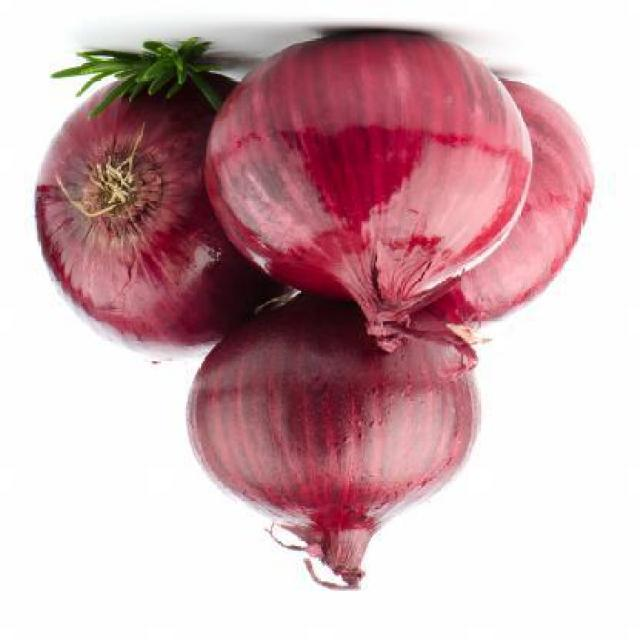onion: (212, 51, 530, 327), (198, 322, 487, 562), (38, 84, 254, 370)
